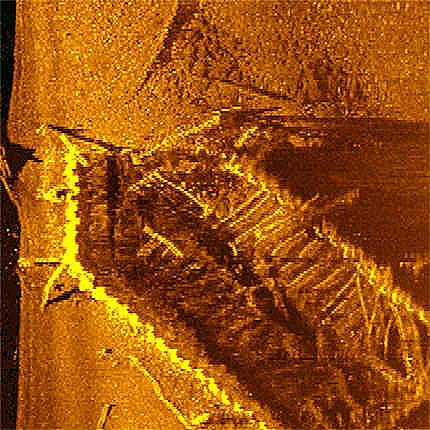ship: (19, 105, 429, 429)
